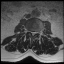CCS_normal: (32, 30, 34, 37)
LFS_normal: (36, 30, 38, 35)
LLS_stenosis: (34, 30, 36, 36)
RFS_stenosis: (28, 28, 30, 34)
RLS_stenosis: (30, 29, 32, 35)
